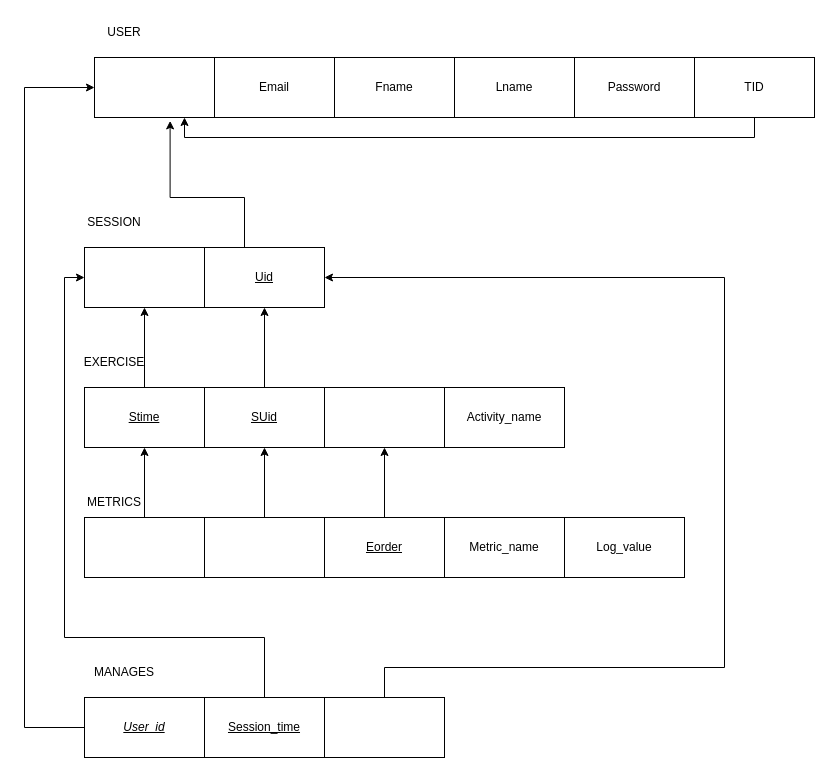
Image size: 832x775. Some labels were removed from this diagram. The shapes that lost their labels are listed below. From the top down, each one's centre as x and y in pixels, then its label:
At [154,87]: "Id".
At [144,277]: "Time".
At [384,417]: "Order".
At [144,547]: "Etime".
At [264,547]: "EUid".
At [384,727]: "Session_Uid".
